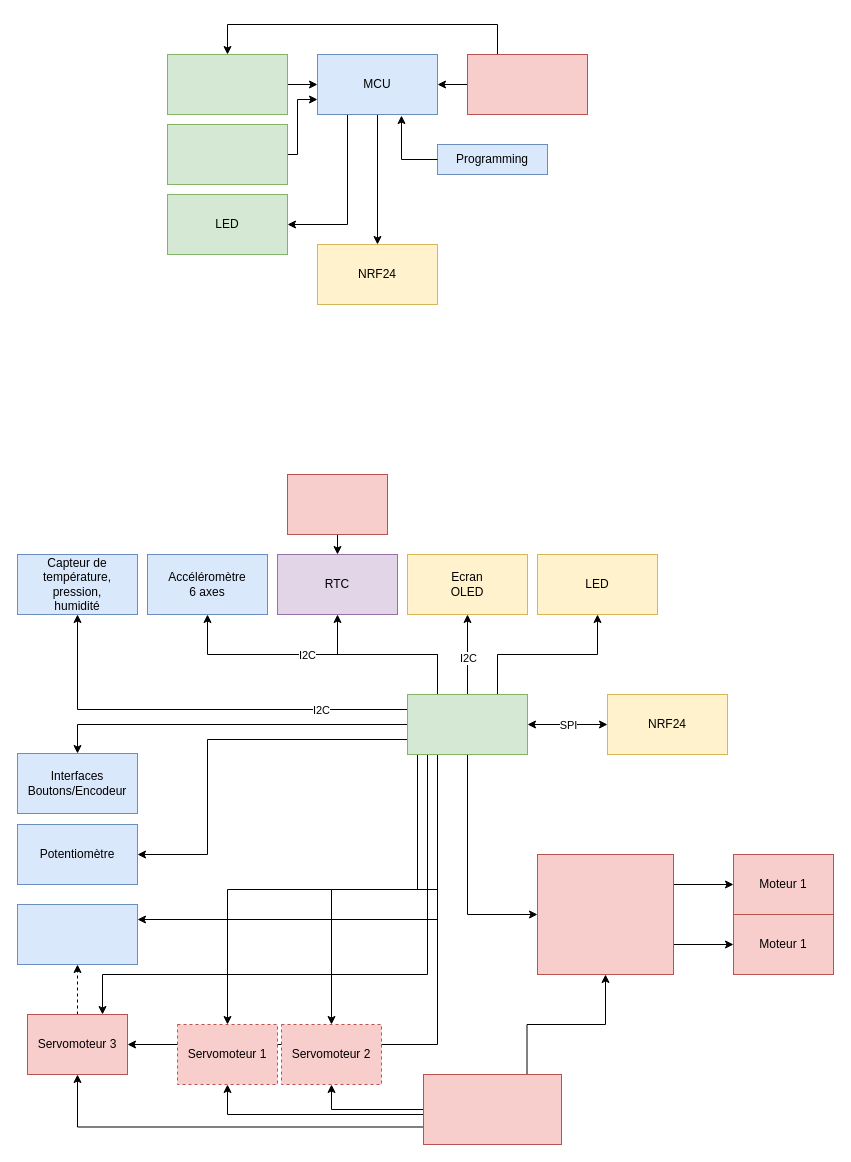
Image size: 851x1162. Some labels were removed from this diagram. Each missing label, with the centre of its shape:
Alimentation externe: point (492, 1109)
Batterie: point (337, 504)
Buttons: point (227, 154)
Capteur de distance: point (77, 934)
Driver moteurs: point (605, 914)
Joystick: point (227, 84)
Power: point (527, 84)
RPI Pico: point (467, 724)
